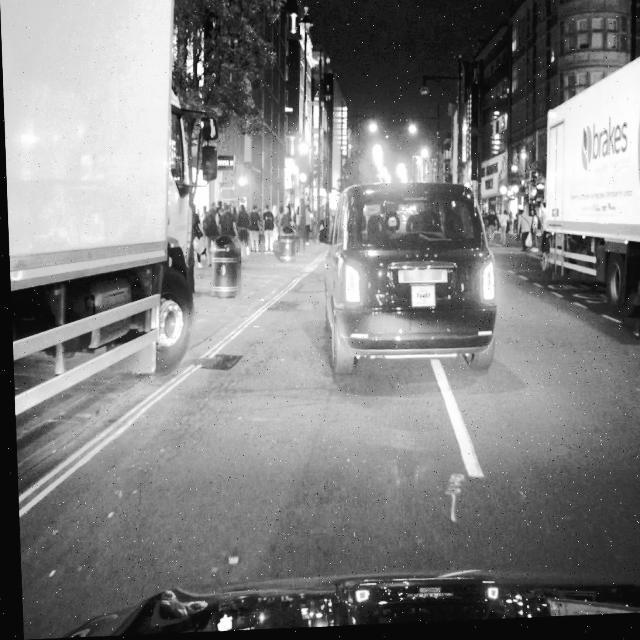Car: (324, 184, 496, 375)
Truck: (0, 0, 225, 450), (532, 52, 640, 325)
